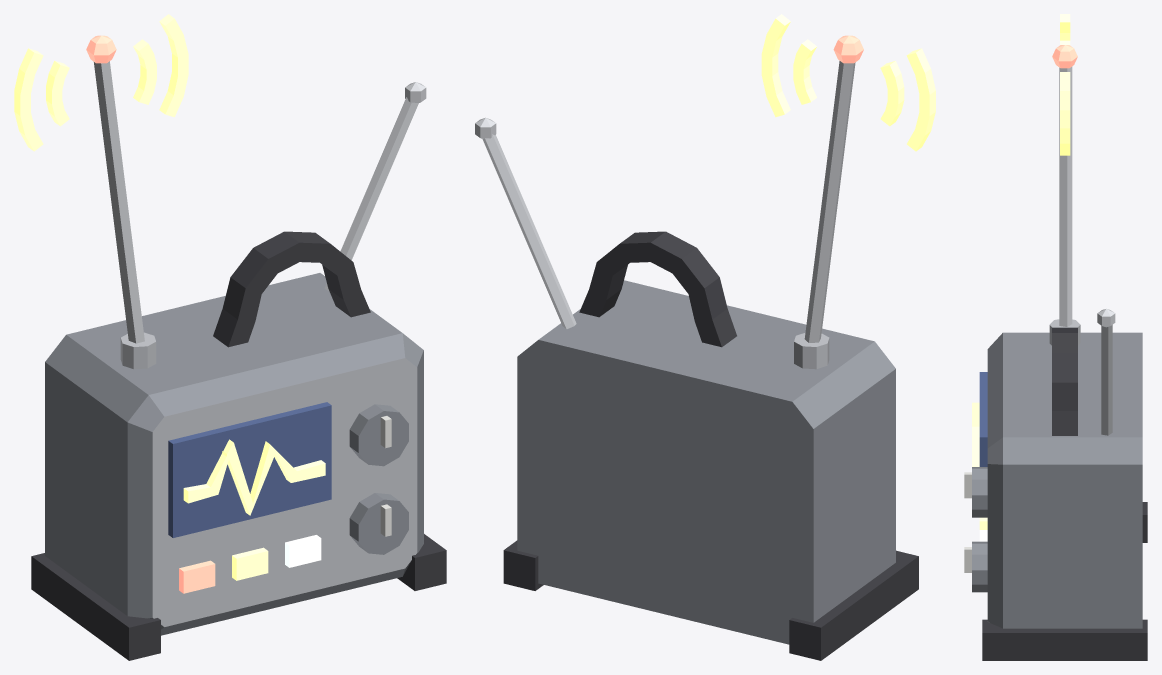
File: item_jammer.glb
3 views of the same model, side by side, from view 1: azimuth 30°, elevation 25°; view 2: azimuth 150°, elevation 25°; view 3: azimuth 270°, elevation 25° (orthographic). The views are drawn at different scales.
Parts seen in each view (by area): view 1: item_jammer; view 2: item_jammer; view 3: item_jammer.
Boxes of the visible parts, x1,y1,x2,y2 form: item_jammer: (14, 14, 446, 660); item_jammer: (475, 14, 935, 660); item_jammer: (964, 14, 1147, 660).
Bounding box in the file's own units: 0.8138 × 1.06 × 0.355.
